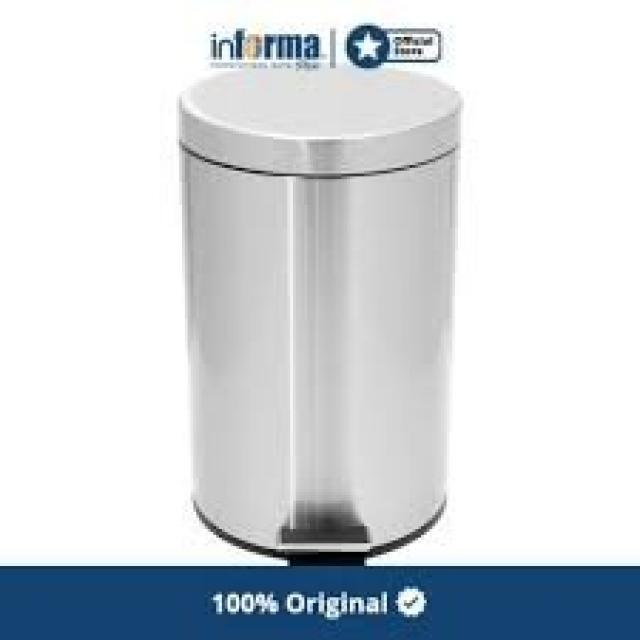Dumpster: (177, 63, 460, 566)
